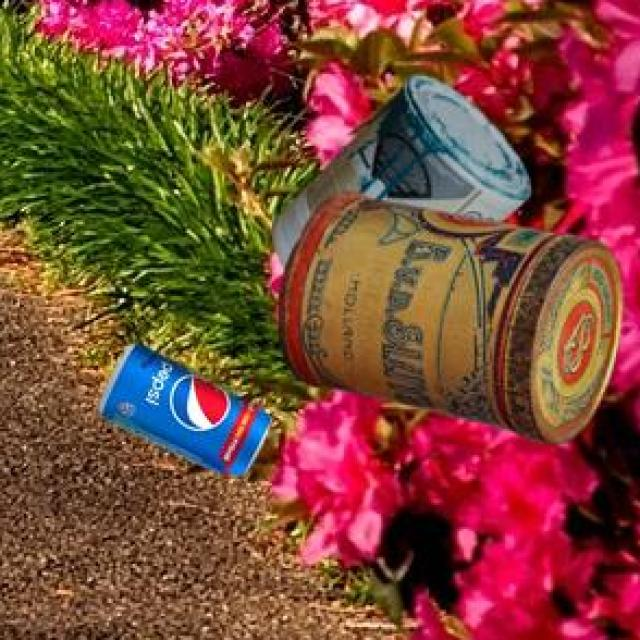logam: (275, 188, 619, 441), (269, 73, 526, 264), (97, 341, 269, 471)
